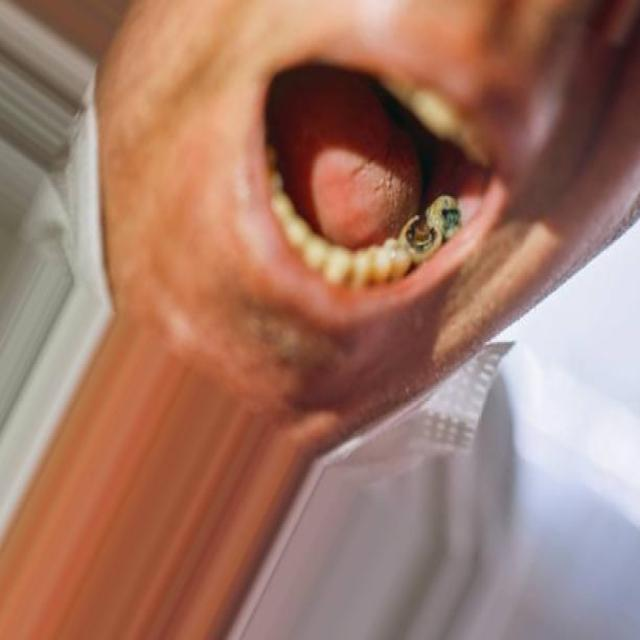caries: (398, 214, 439, 263), (430, 195, 464, 242)
